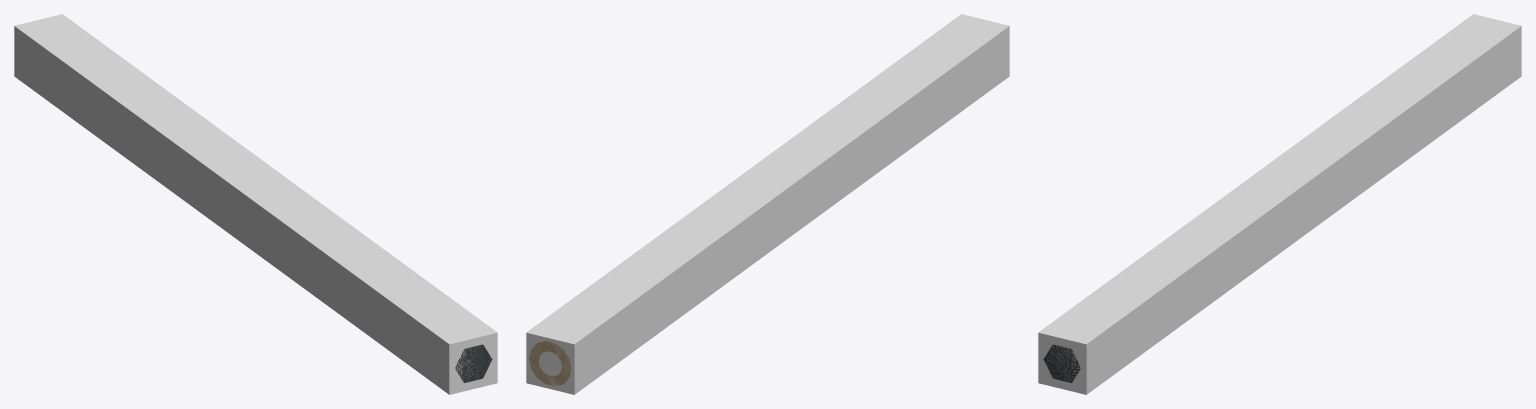
Rendered from sniper_barrel_long.glb.
The picture shows the model from 3 angles, left to right: view 1: azimuth 30°, elevation 25°; view 2: azimuth 150°, elevation 25°; view 3: azimuth 330°, elevation 25°; orthographic projection.
Parts seen in each view (by area): view 1: COL_part, barrel; view 2: COL_part, barrel; view 3: COL_part, barrel.
Boxes of the visible parts, box(x1,y1,x2,y2) form: COL_part: box(14, 14, 497, 394); barrel: box(455, 344, 492, 382); COL_part: box(526, 14, 1009, 394); barrel: box(529, 341, 571, 386); COL_part: box(1038, 14, 1521, 394); barrel: box(1043, 344, 1080, 382).
Size of the model in its own units: 0.025 by 0.025 by 0.39.
